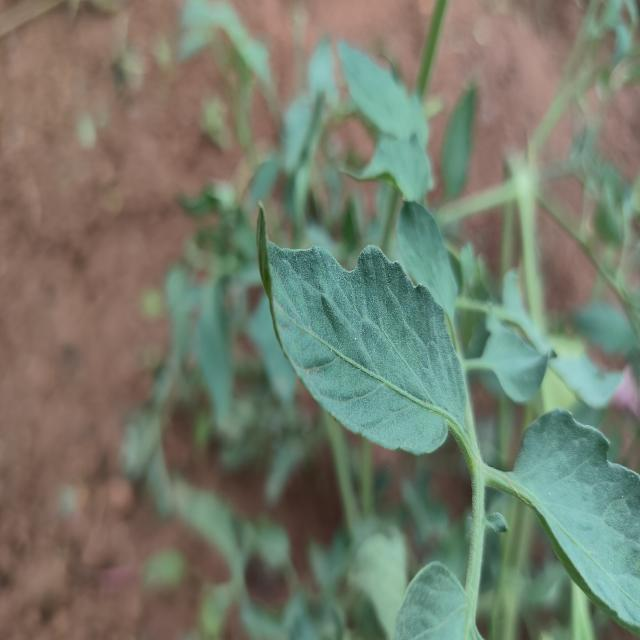tomato_healthy: (258, 211, 466, 454), (486, 408, 640, 636), (396, 201, 458, 318)
